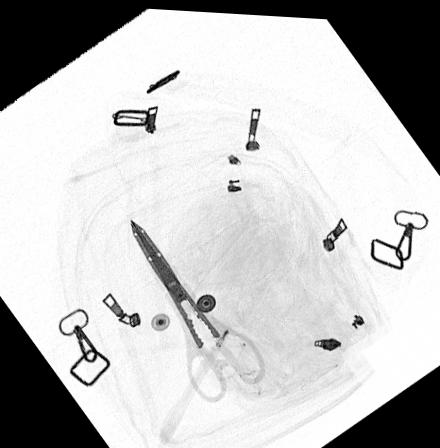Scissors: (129, 216, 266, 400)
